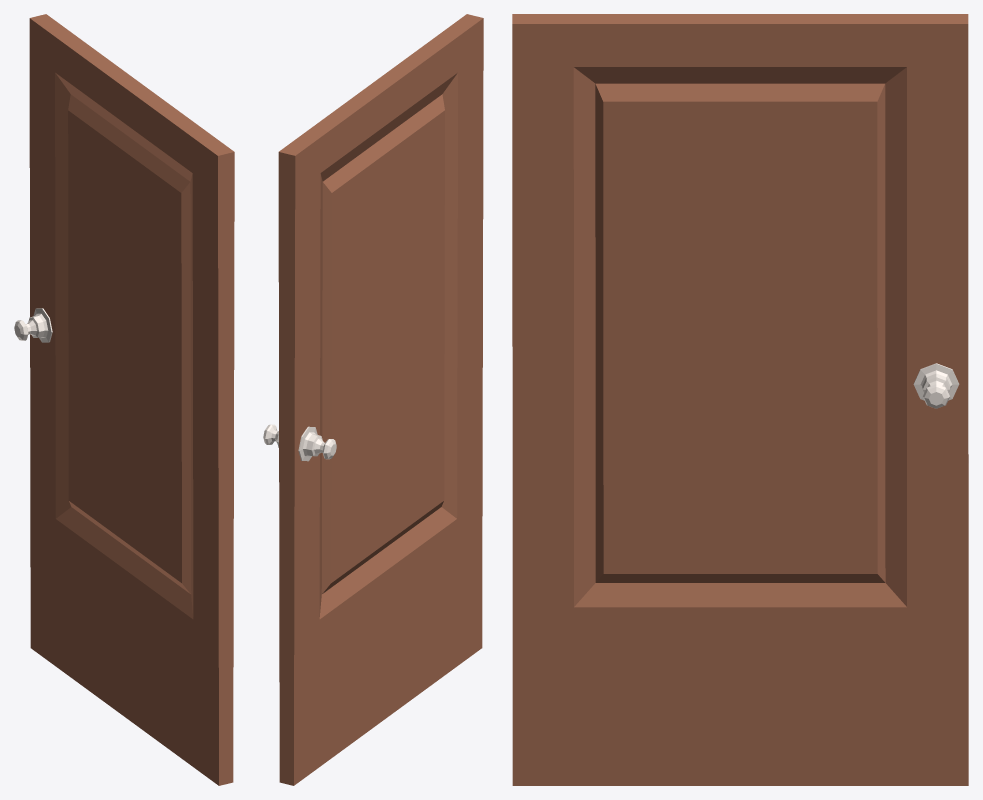
Rendered from дверь.fbx.
The picture shows the model from 3 angles, left to right: view 1: azimuth 30°, elevation 25°; view 2: azimuth 150°, elevation 25°; view 3: azimuth 270°, elevation 25°; orthographic projection. The views are drawn at different scales.
Parts seen in each view (by area): view 1: Cylinder.031; view 2: Cylinder.031; view 3: Cylinder.031.
Boxes of the visible parts, bbox=[...] form: Cylinder.031: bbox=[14, 14, 234, 785]; Cylinder.031: bbox=[263, 14, 483, 785]; Cylinder.031: bbox=[512, 14, 968, 785].
Bounding box in the file's own units: 222 × 1999 × 1084.
